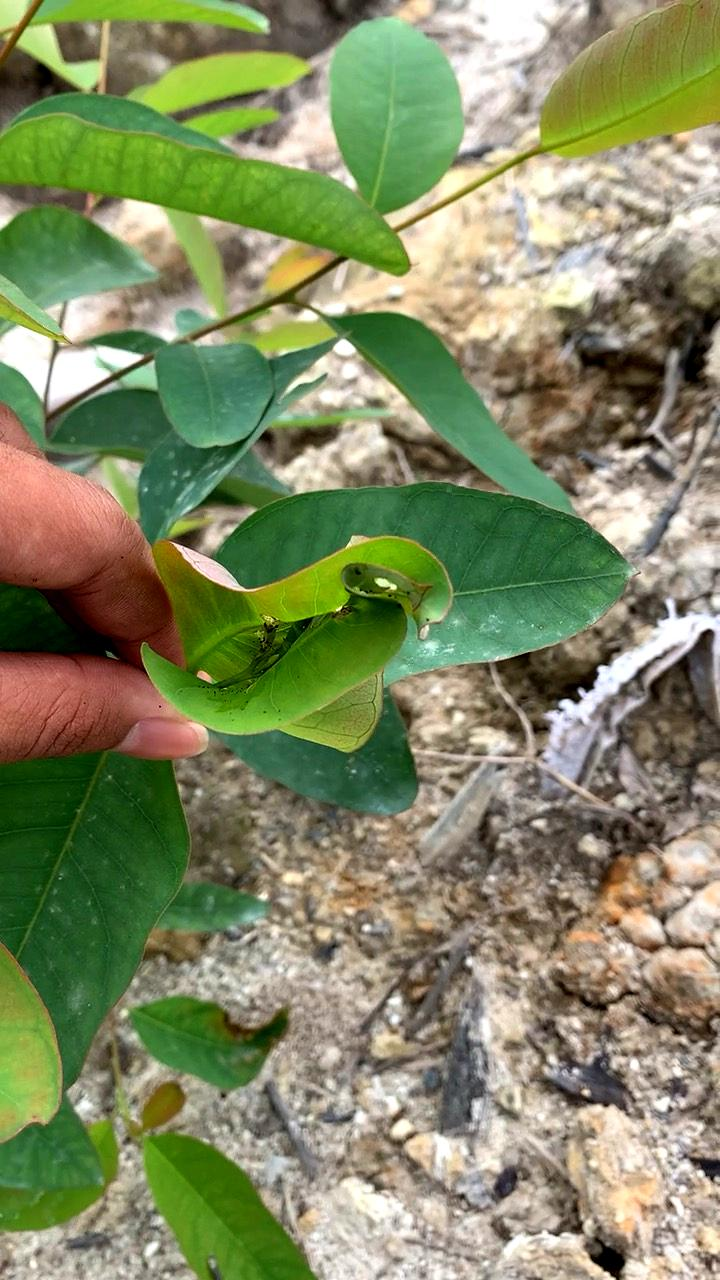Leaf Roller - Leaf: (109, 508, 478, 774)
